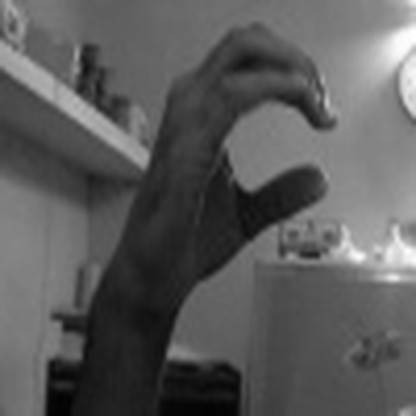c: (134, 10, 342, 276)
